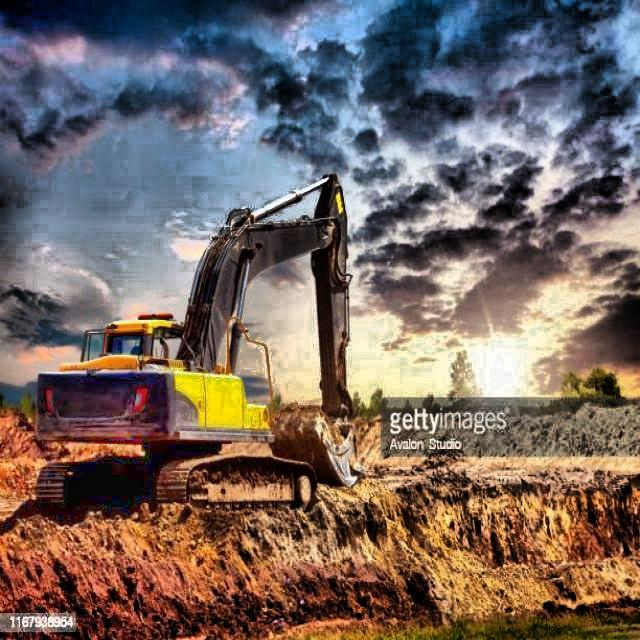excavator: (31, 170, 362, 514)
